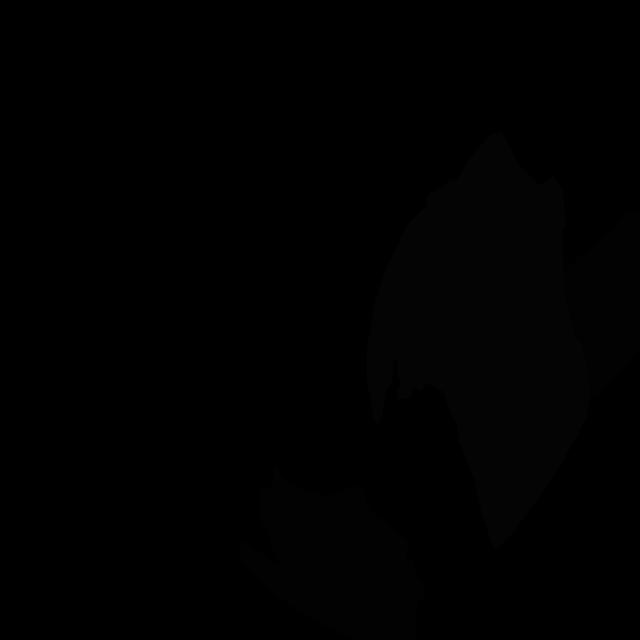cardboard: (238, 465, 424, 640), (564, 212, 640, 399)
soft_plastic: (366, 132, 589, 550)
